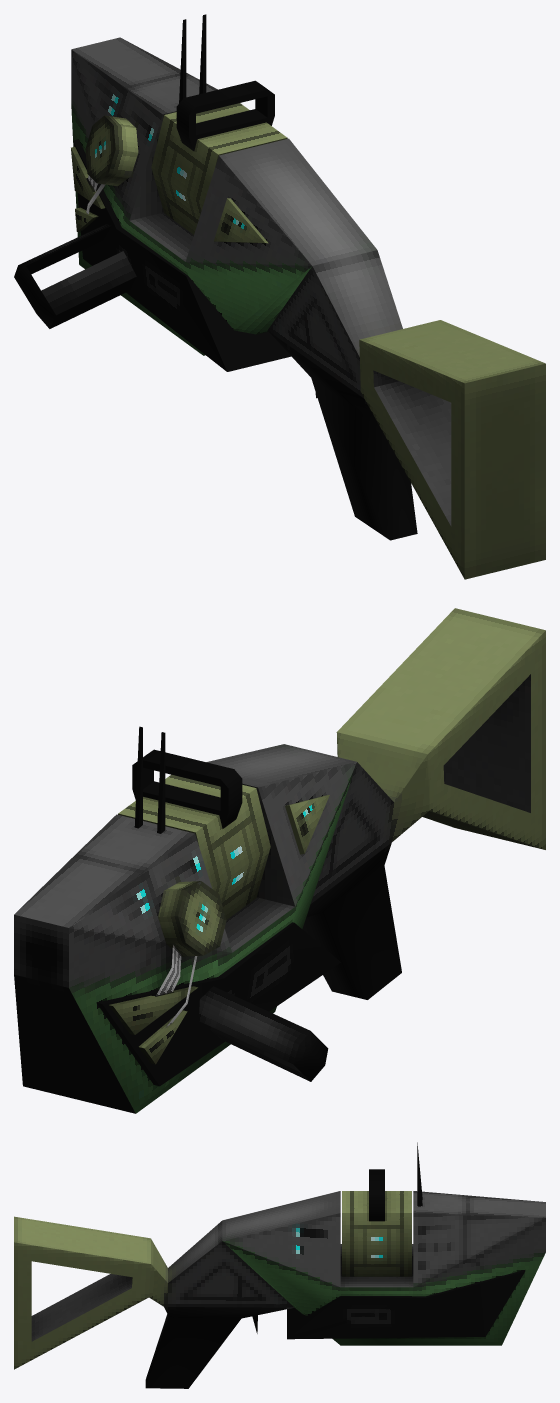
The picture shows the model from 3 angles, top to bottom: view 1: azimuth 30°, elevation 25°; view 2: azimuth 150°, elevation 25°; view 3: azimuth 270°, elevation 25°; orthographic projection. The views are drawn at different scales.
Parts seen in each view (by area): view 1: grenade launcher.001; view 2: grenade launcher.001; view 3: grenade launcher.001.
Boxes of the visible parts, x1,y1,x2,y2 form: grenade launcher.001: [14, 14, 545, 579]; grenade launcher.001: [14, 608, 545, 1113]; grenade launcher.001: [14, 1142, 545, 1388].
Bounding box in the file's own units: 0.4194 × 0.6316 × 1.28.
Materials: 1 (1 with a texture image).
